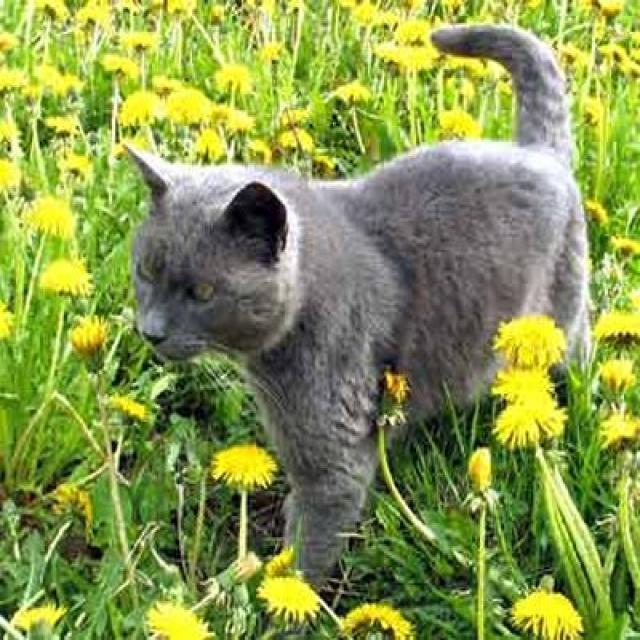Russian_Blue: (120, 131, 320, 374)
